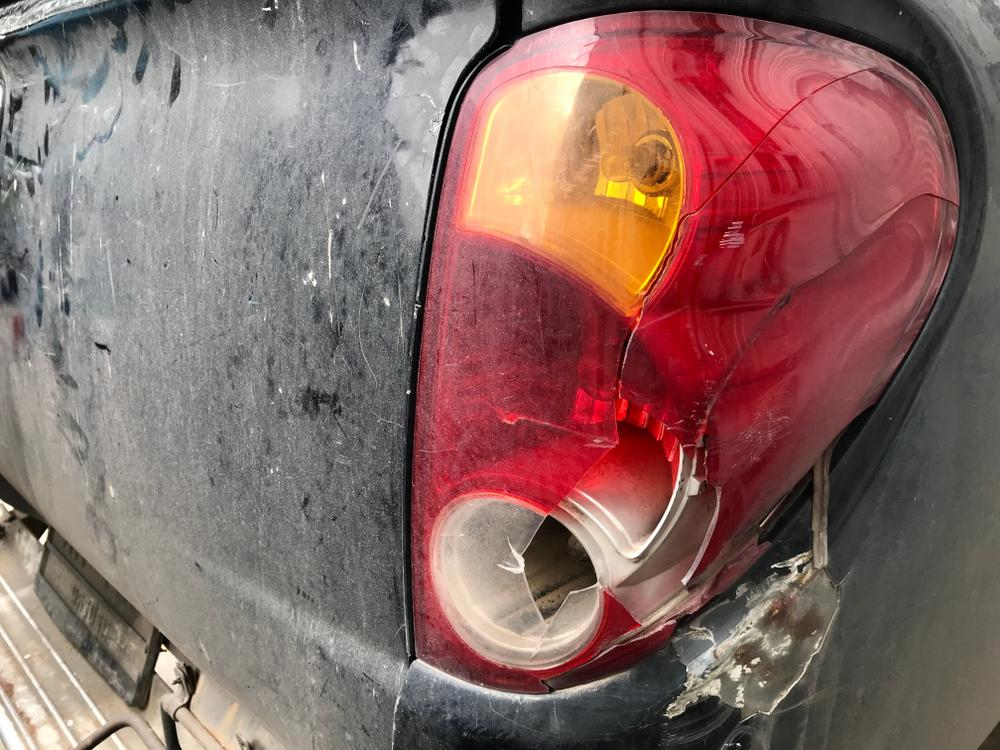lamp broken: (407, 10, 966, 692)
scratch: (668, 556, 853, 750)
